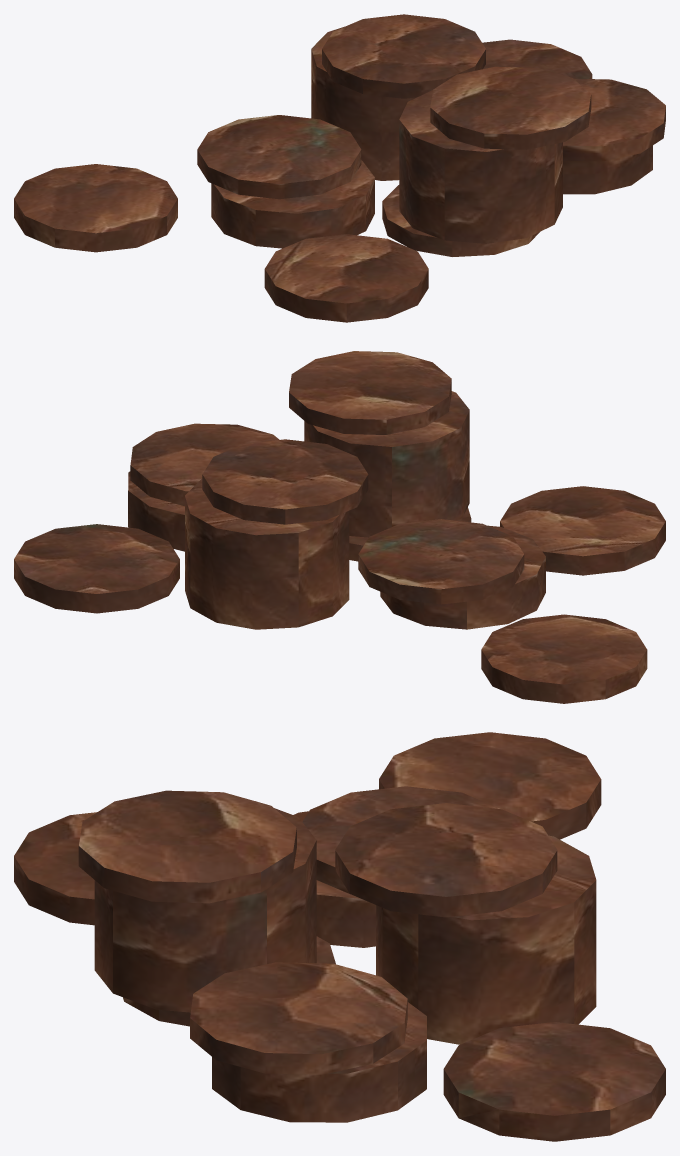
Rendered from tr_coins_wide.glb.
3 renders of one model, top to bottom at view 1: azimuth 30°, elevation 25°; view 2: azimuth 150°, elevation 25°; view 3: azimuth 270°, elevation 25°, orthographic. The views are drawn at different scales.
Parts seen in each view (by area): view 1: model; view 2: model; view 3: model.
Boxes of the visible parts, x1,y1,x2,y2 form: model: [14, 14, 665, 322]; model: [14, 351, 665, 703]; model: [14, 732, 665, 1141].
Size of the model in its own units: 0.3623 by 0.076 by 0.2602.
Materials: 1 (1 with a texture image).
